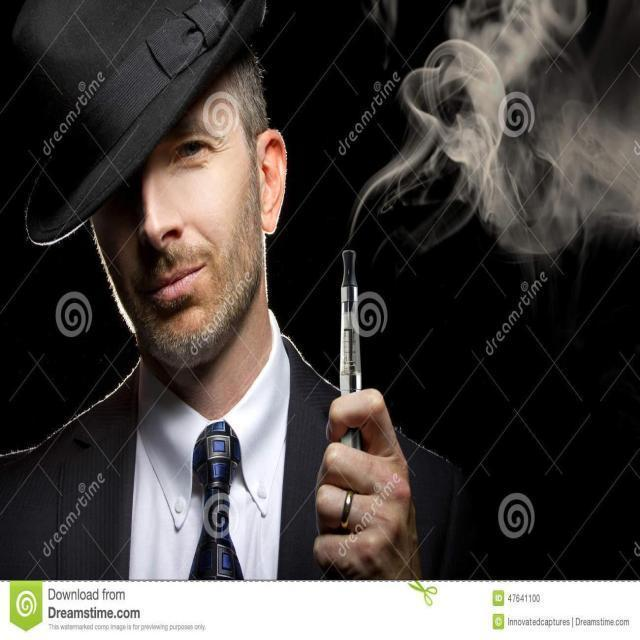smoke: (427, 0, 639, 239)
